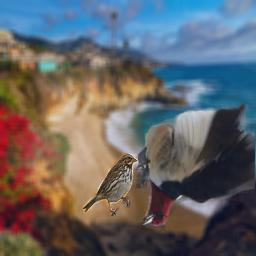Sparrow: (83, 153, 138, 216)
Woodpecker: (130, 104, 255, 234)
